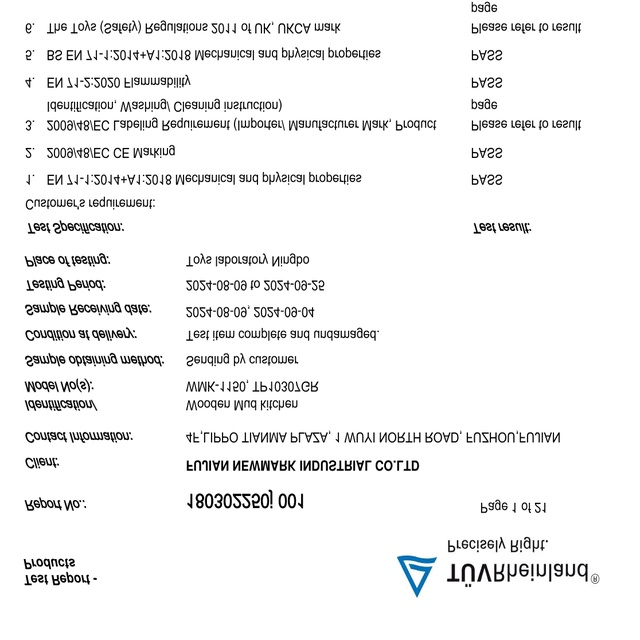tuv_rheinland: (392, 551, 604, 595)
